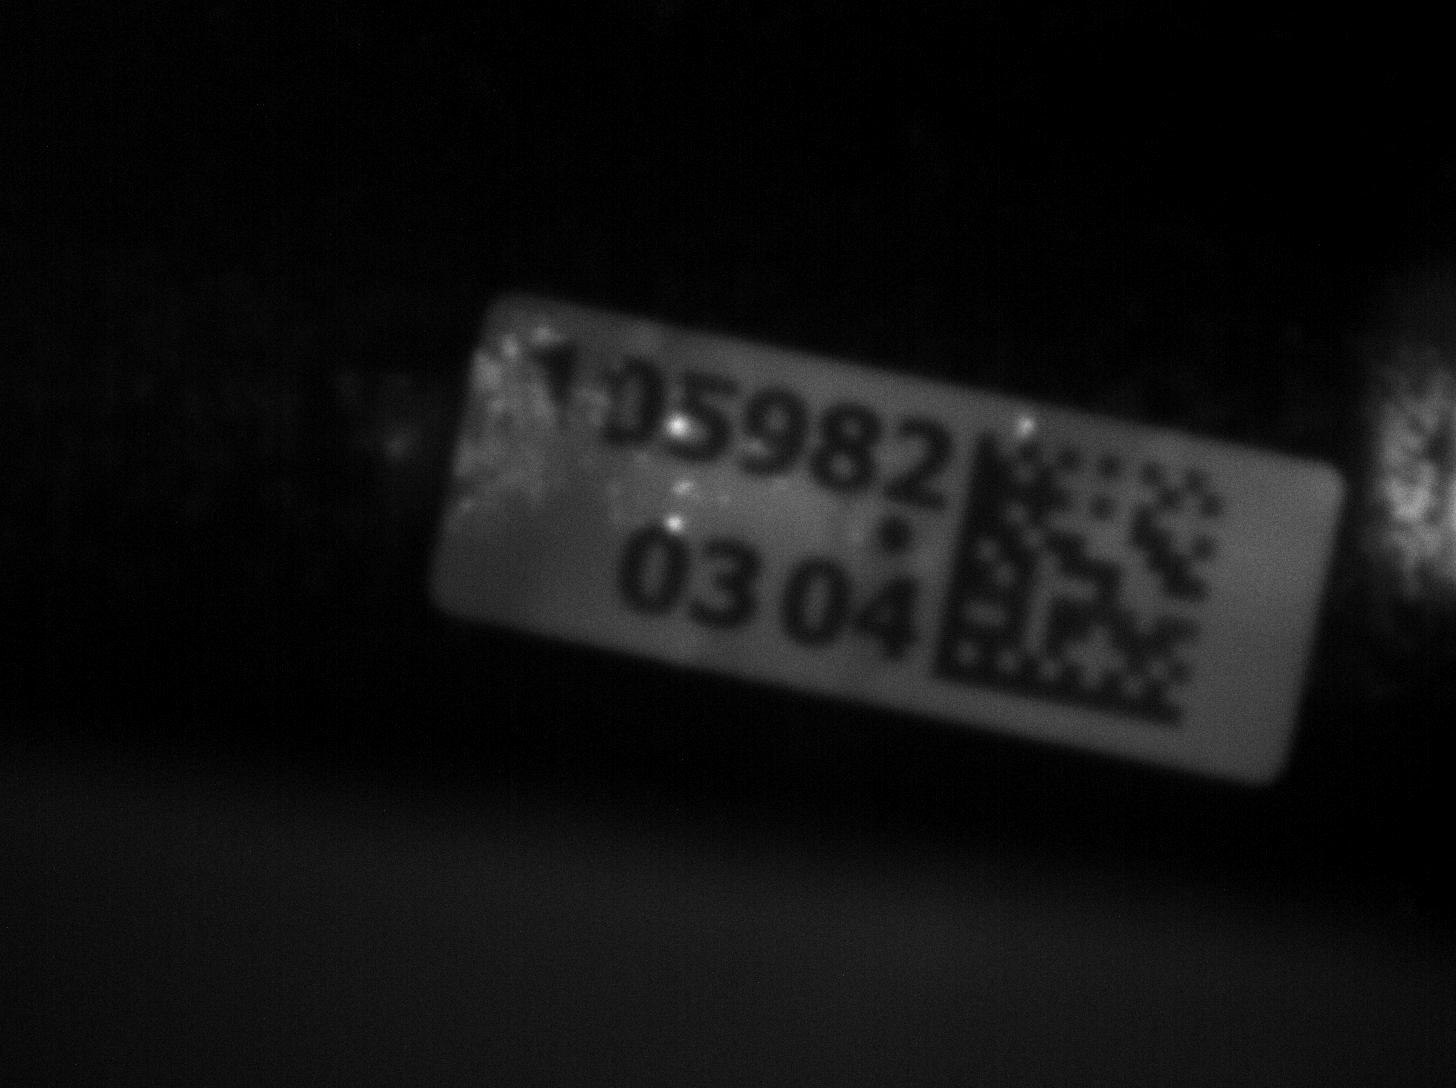data matrix: (925, 400, 1245, 741)
